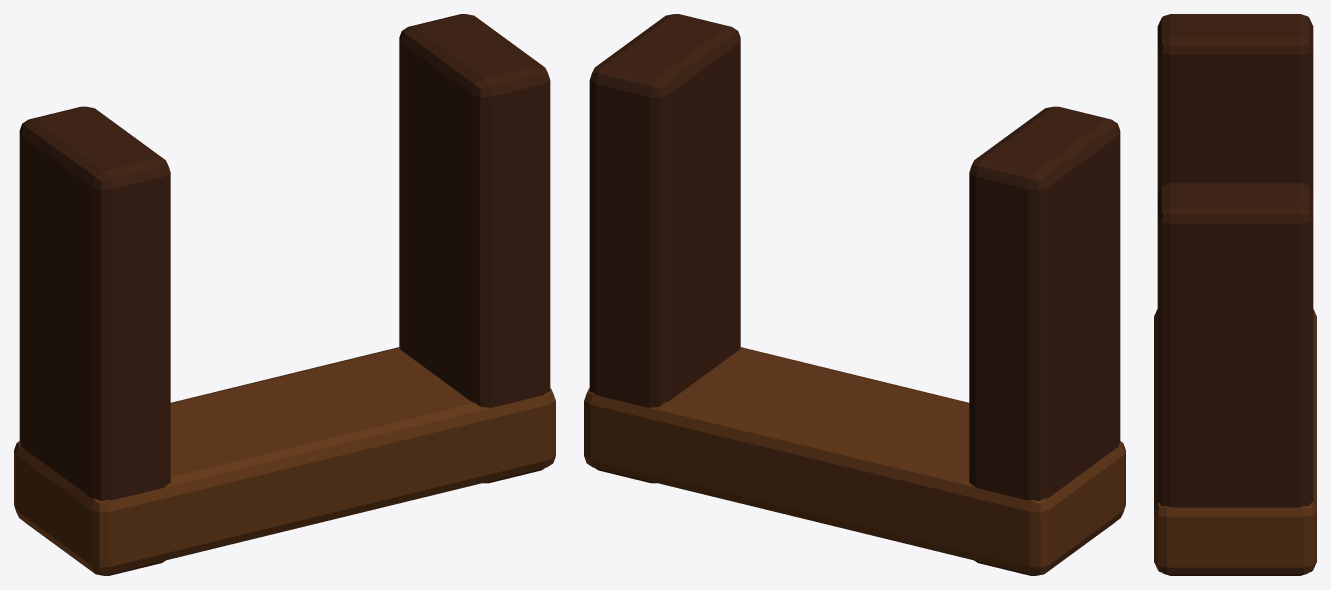
File: ballista_orientable_yaw_carriage.glb
3 views of the same model, side by side, from view 1: azimuth 30°, elevation 25°; view 2: azimuth 150°, elevation 25°; view 3: azimuth 270°, elevation 25° (orthographic). The views are drawn at different scales.
Parts seen in each view (by area): view 1: BallistaForkBridge, BallistaForkPost, BallistaForkPost.001; view 2: BallistaForkBridge, BallistaForkPost, BallistaForkPost.001; view 3: BallistaForkPost.001, BallistaForkPost, BallistaForkBridge.
Part boxes in pixels (x1,y1,x2,y2): BallistaForkBridge: (14,347,555,574); BallistaForkPost: (19,106,170,575); BallistaForkPost.001: (399,14,550,483); BallistaForkBridge: (584,347,1125,574); BallistaForkPost: (969,106,1120,575); BallistaForkPost.001: (589,14,740,483); BallistaForkPost.001: (1157,183,1313,575); BallistaForkPost: (1157,14,1313,194); BallistaForkBridge: (1154,309,1316,574).
Size of the model in its own units: 1.32 by 1.1 by 0.44.
